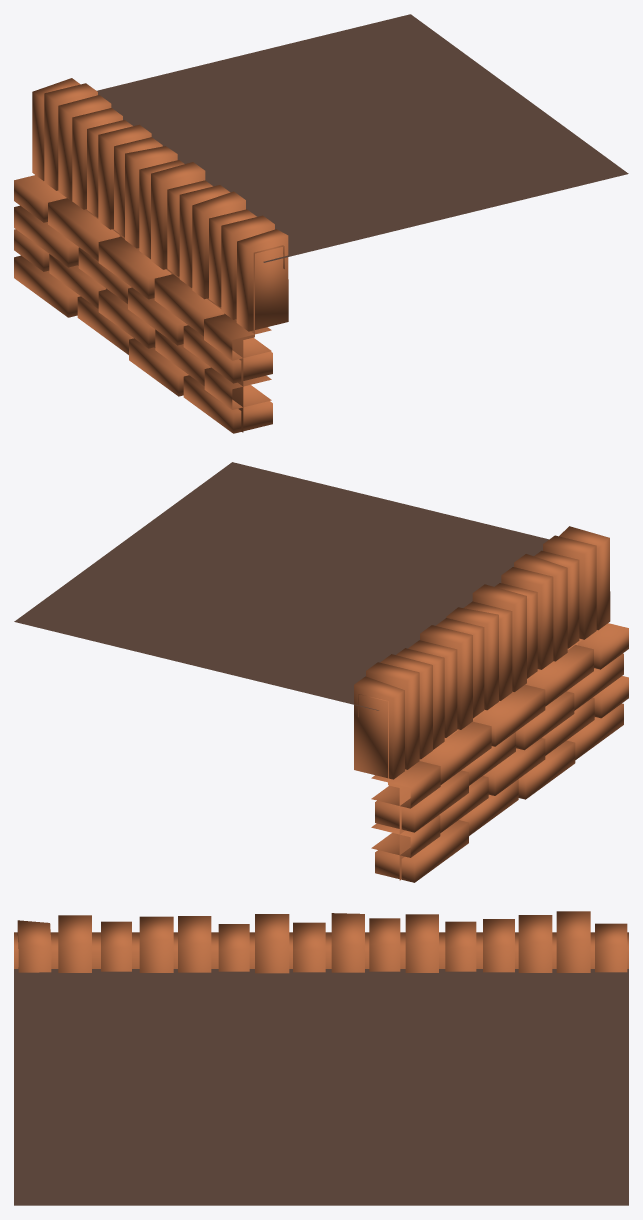
Rendered from SM_PlantationEdge.fbx.
The picture shows the model from 3 angles, top to bottom: view 1: azimuth 30°, elevation 25°; view 2: azimuth 150°, elevation 25°; view 3: azimuth 270°, elevation 25°; orthographic projection. The views are drawn at different scales.
Visible parts, largest first — view 1: SM_PlantationEdge; view 2: SM_PlantationEdge; view 3: SM_PlantationEdge.
Boxes of the visible parts, x1,y1,x2,y2 form: SM_PlantationEdge: (14, 14, 628, 433); SM_PlantationEdge: (14, 462, 628, 882); SM_PlantationEdge: (14, 911, 628, 1205).
Bounding box in the file's own units: 105 × 47.72 × 100.
